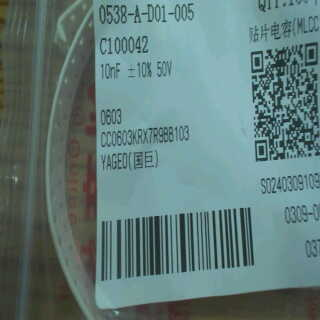10nF: (97, 60, 124, 85)
